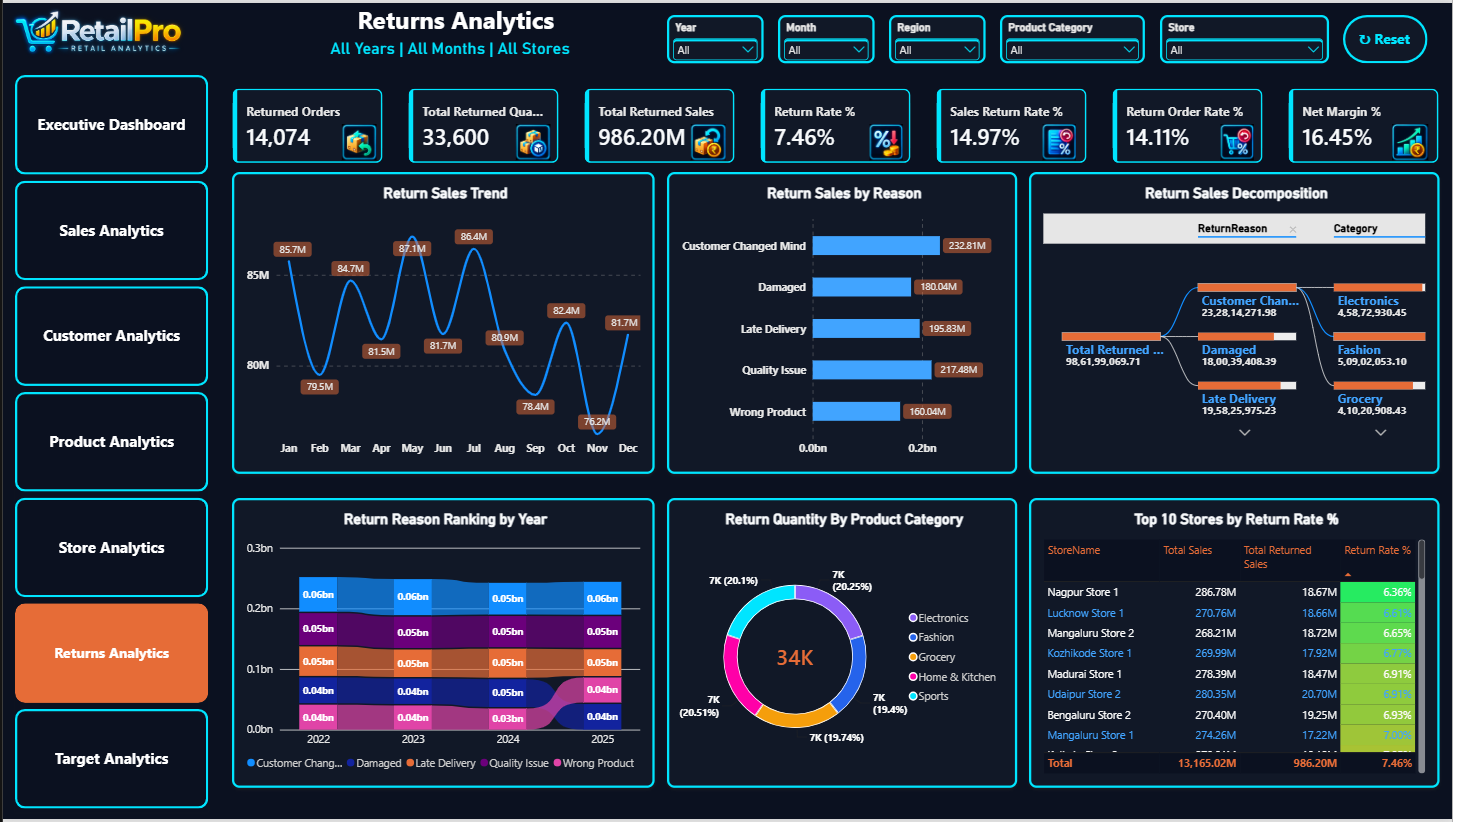

The page's visual inventory and layout, read from the dashboard file:
{"tool":"powerbi","page":{"name":"Returns Analytics","canvas":[1920,1080],"ordinal":5},"visuals":[{"type":"cardVisual","fields":{"Data":["All_Measures.Total Returned Sales"]},"box":[770.3,112,200,100],"z":0},{"type":"cardVisual","fields":{"Data":["All_Measures.Total Returned Quantity"]},"box":[537.2,112,200,100],"z":1000},{"type":"cardVisual","fields":{"Data":["All_Measures.Return Rate %"]},"box":[1003.5,112,200,100],"z":2000},{"type":"cardVisual","fields":{"Data":["All_Measures.Sales Return Rate %"]},"box":[1236.7,112,200,100],"z":3000},{"type":"cardVisual","fields":{"Data":["All_Measures.Net Margin %"]},"box":[1703,112,200,100],"z":4000},{"type":"lineChart","title":"Return Sales Trend","fields":{"Category":["DimDate.MonthName","DimDate.Year"],"Y":["All_Measures.Total Returned Sales"]},"box":[304,224,560,400],"z":5000},{"type":"clusteredBarChart","title":"Return Sales by Reason","fields":{"Category":["FactReturns.ReturnReason"],"Y":["All_Measures.Total Returned Sales"]},"box":[880,224,464,400],"z":6000},{"type":"ribbonChart","title":"Return Reason Ranking by Year","fields":{"Category":["DimDate.Year"],"Series":["FactReturns.ReturnReason"],"Y":["All_Measures.Total Returned Sales"]},"box":[304,656,560,384],"z":7000},{"type":"decompositionTreeVisual","title":"Return Sales Decomposition","fields":{"Analyze":["All_Measures.Total Returned Sales"],"ExplainBy":["FactReturns.ReturnReason","DimProduct.Category","DimStore.Region","DimStore.City"]},"box":[1360,224,544,400],"z":8000},{"type":"donutChart","title":" Return Quantity By Product Category","fields":{"Category":["DimProduct.Category"],"Y":["Sum(FactReturns.ReturnedQuantity)"]},"box":[880,656,464,384],"z":9000},{"type":"tableEx","title":"Top 10 Stores by Return Rate %","fields":{"Values":["DimStore.StoreName","All_Measures.Total Sales","All_Measures.Total Returned Sales","All_Measures.Return Rate %"]},"box":[1360,656,544,384],"z":10000},{"type":"pageNavigator","box":[16,96,256,976],"z":11000},{"type":"cardVisual","fields":{"Data":["All_Measures.Returned Orders"]},"box":[304,112,200,100],"z":12000},{"type":"cardVisual","fields":{"Data":["All_Measures.Return Order Rate %"]},"box":[1469.8,112,200,100],"z":13000},{"type":"slicer","fields":{"Values":["DimDate.Year"]},"box":[880,16,128,64],"z":14000},{"type":"slicer","fields":{"Values":["DimDate.MonthName"]},"box":[1027.2,16,128,64],"z":15000},{"type":"slicer","fields":{"Values":["DimStore.Region"]},"box":[1174.4,16,128,64],"z":16000},{"type":"slicer","fields":{"Values":["DimStore.StoreName"]},"box":[1532.8,16,224,64],"z":17000},{"type":"slicer","fields":{"Values":["DimProduct.Category"]},"box":[1321.6,16,192,64],"z":18000},{"type":"image","box":[0,0,256,80],"z":19000},{"type":"textbox","box":[368,48,448,32],"z":20000},{"type":"textbox","box":[432,0,336,48],"z":21000},{"type":"actionButton","box":[1776,16,112,64],"z":22000},{"type":"image","box":[432,160,80,48],"z":22001},{"type":"image","box":[662,160,80,48],"z":22002},{"type":"image","box":[895,160,80,48],"z":22003},{"type":"image","box":[1130,160,80,48],"z":22004},{"type":"image","box":[1360,160,80,48],"z":22005},{"type":"image","box":[1595,160,80,48],"z":22006},{"type":"image","box":[1824,160,80,48],"z":22007}]}

Visuals, with their boxes in screenshot pixels (x1, y1, x2, y2), scaled from the page's 1920x1080 canvas onto the 1459x822 screenshot:
cardVisual - All_Measures.Total Returned Sales: (585,85,737,161)
cardVisual - All_Measures.Total Returned Quantity: (408,85,560,161)
cardVisual - All_Measures.Return Rate %: (763,85,915,161)
cardVisual - All_Measures.Sales Return Rate %: (940,85,1092,161)
cardVisual - All_Measures.Net Margin %: (1294,85,1446,161)
"Return Sales Trend" lineChart: (231,170,657,475)
"Return Sales by Reason" clusteredBarChart: (669,170,1021,475)
"Return Reason Ranking by Year" ribbonChart: (231,499,657,792)
"Return Sales Decomposition" decompositionTreeVisual: (1033,170,1447,475)
" Return Quantity By Product Category" donutChart: (669,499,1021,792)
"Top 10 Stores by Return Rate %" tableEx: (1033,499,1447,792)
pageNavigator: (12,73,207,816)
cardVisual - All_Measures.Returned Orders: (231,85,383,161)
cardVisual - All_Measures.Return Order Rate %: (1117,85,1269,161)
slicer - DimDate.Year: (669,12,766,61)
slicer - DimDate.MonthName: (781,12,878,61)
slicer - DimStore.Region: (892,12,990,61)
slicer - DimStore.StoreName: (1165,12,1335,61)
slicer - DimProduct.Category: (1004,12,1150,61)
image: (0,0,195,61)
textbox: (280,37,620,61)
textbox: (328,0,584,37)
actionButton: (1350,12,1435,61)
image: (328,122,389,158)
image: (503,122,564,158)
image: (680,122,741,158)
image: (859,122,919,158)
image: (1033,122,1094,158)
image: (1212,122,1273,158)
image: (1386,122,1447,158)
